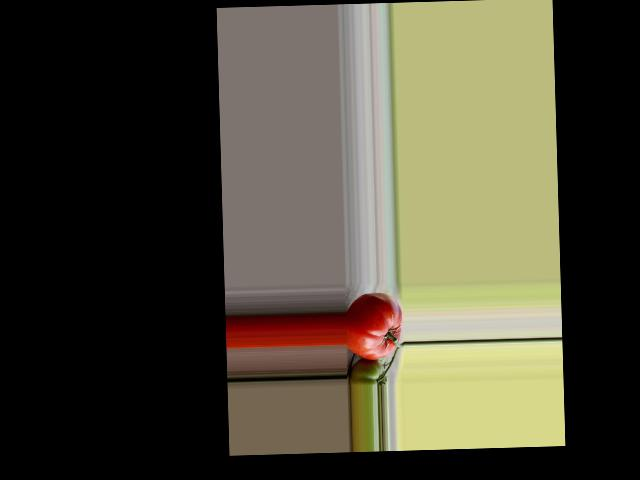tomato: (343, 291, 403, 360)
